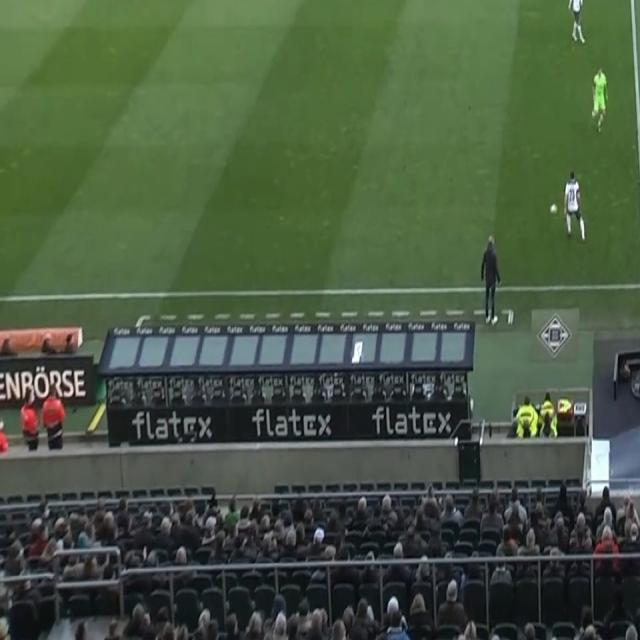ball: (549, 201, 558, 216)
